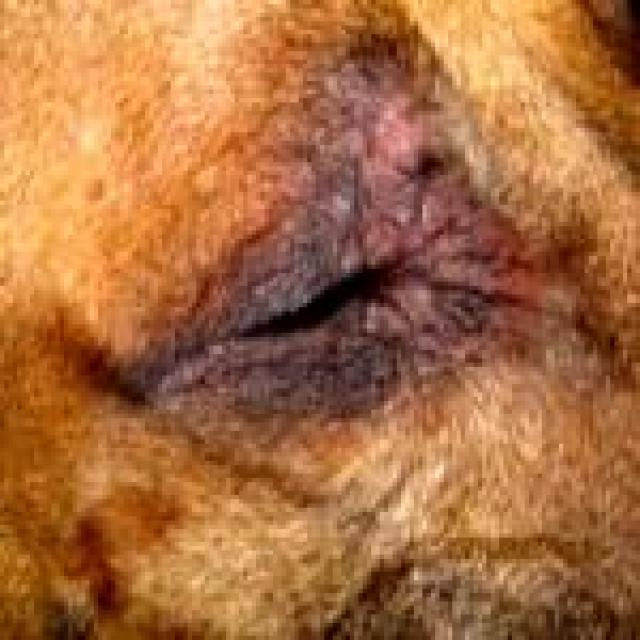fungal infection: (217, 246, 441, 407), (310, 66, 408, 258), (451, 228, 530, 346), (141, 316, 215, 390), (412, 133, 458, 197), (426, 205, 486, 234)
